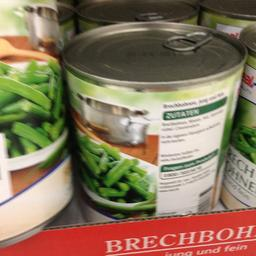beans: (56, 21, 241, 232)
